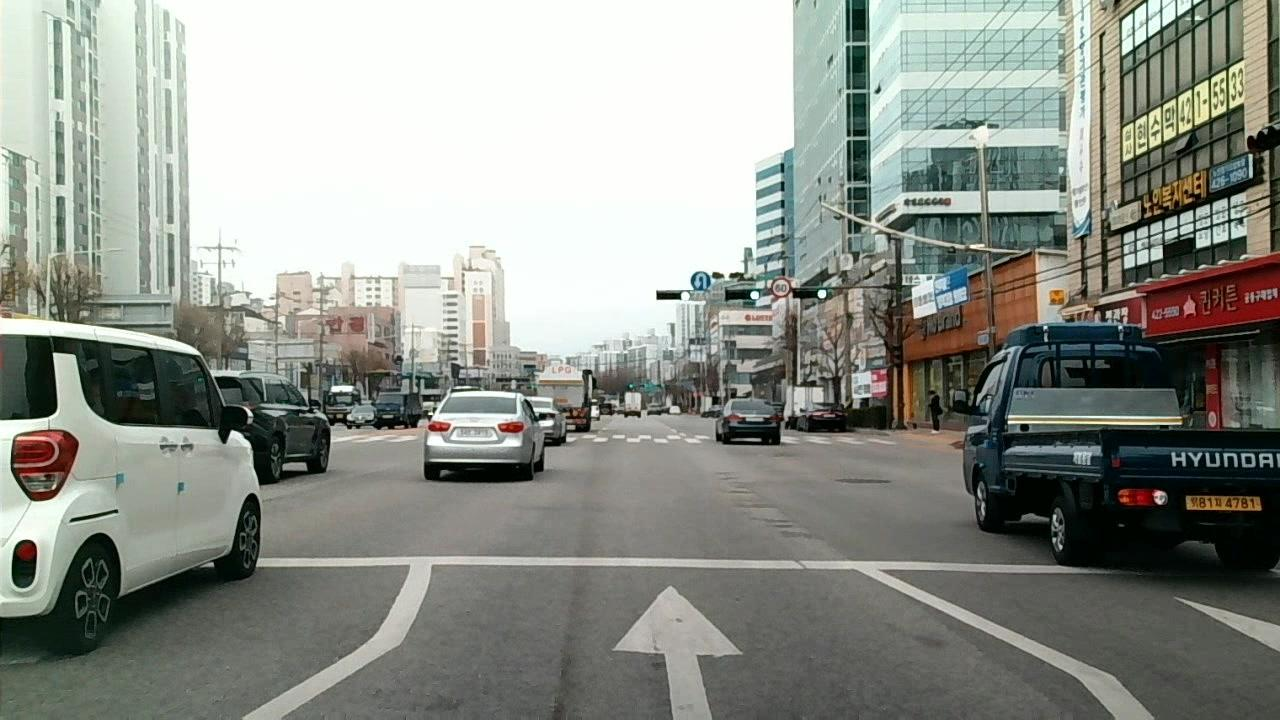vcrack: (551, 584, 577, 720)
